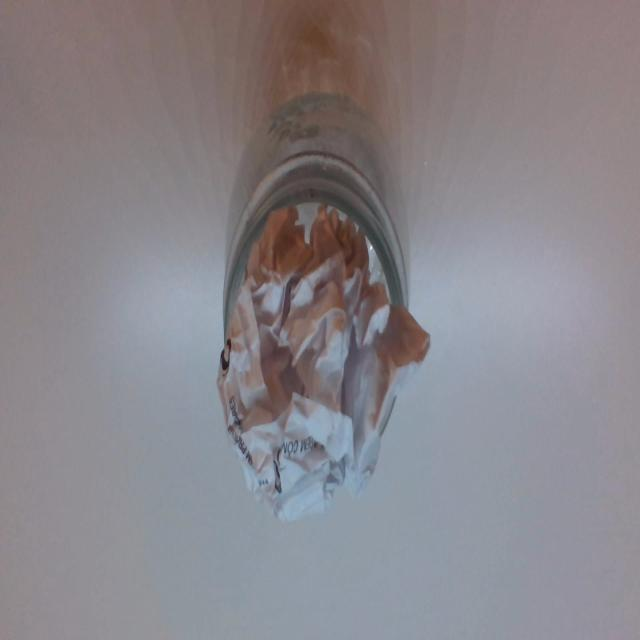Paper: (224, 209, 405, 523)
